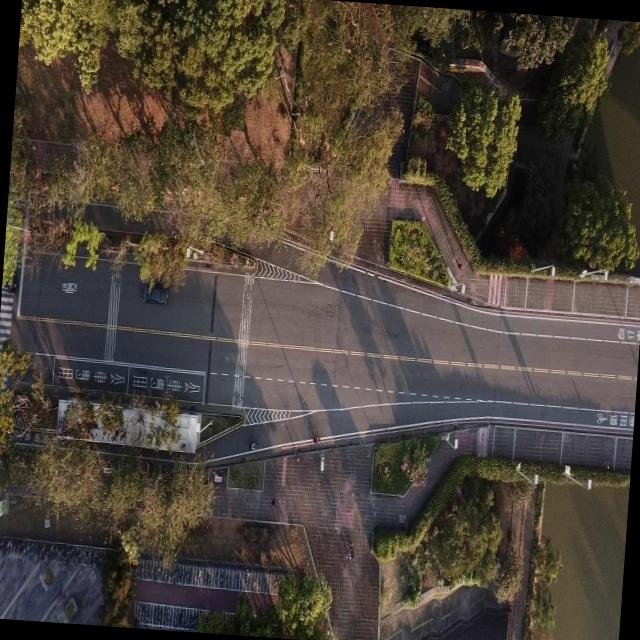car: (138, 276, 172, 308)
